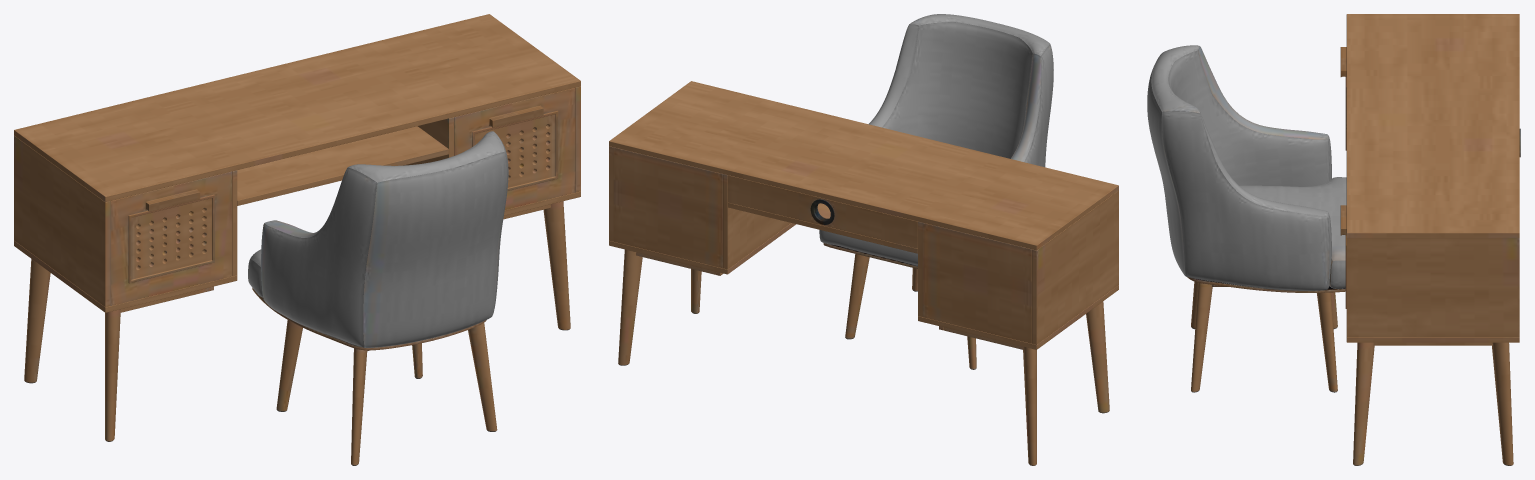
The model's file is mid_century_desk_with_chair.glb.
The picture shows the model from 3 angles, left to right: view 1: azimuth 30°, elevation 25°; view 2: azimuth 150°, elevation 25°; view 3: azimuth 270°, elevation 25°; orthographic projection. The views are drawn at different scales.
Visible parts, largest first — view 1: Desk, Chair, Drawers.001; view 2: Desk, Chair; view 3: Desk, Chair, Drawers.001.
Part boxes in pixels (x1,y1,x2,y2): Desk: (14, 14, 580, 441); Chair: (248, 131, 508, 465); Drawers.001: (110, 87, 575, 305); Desk: (609, 81, 1118, 465); Chair: (819, 14, 1053, 369); Desk: (1346, 14, 1520, 465); Chair: (1147, 45, 1346, 392); Drawers.001: (1340, 47, 1346, 308).
Bounding box in the file's own units: 1.84 × 1.11 × 1.33.
Materials: 3 (2 with a texture image).
